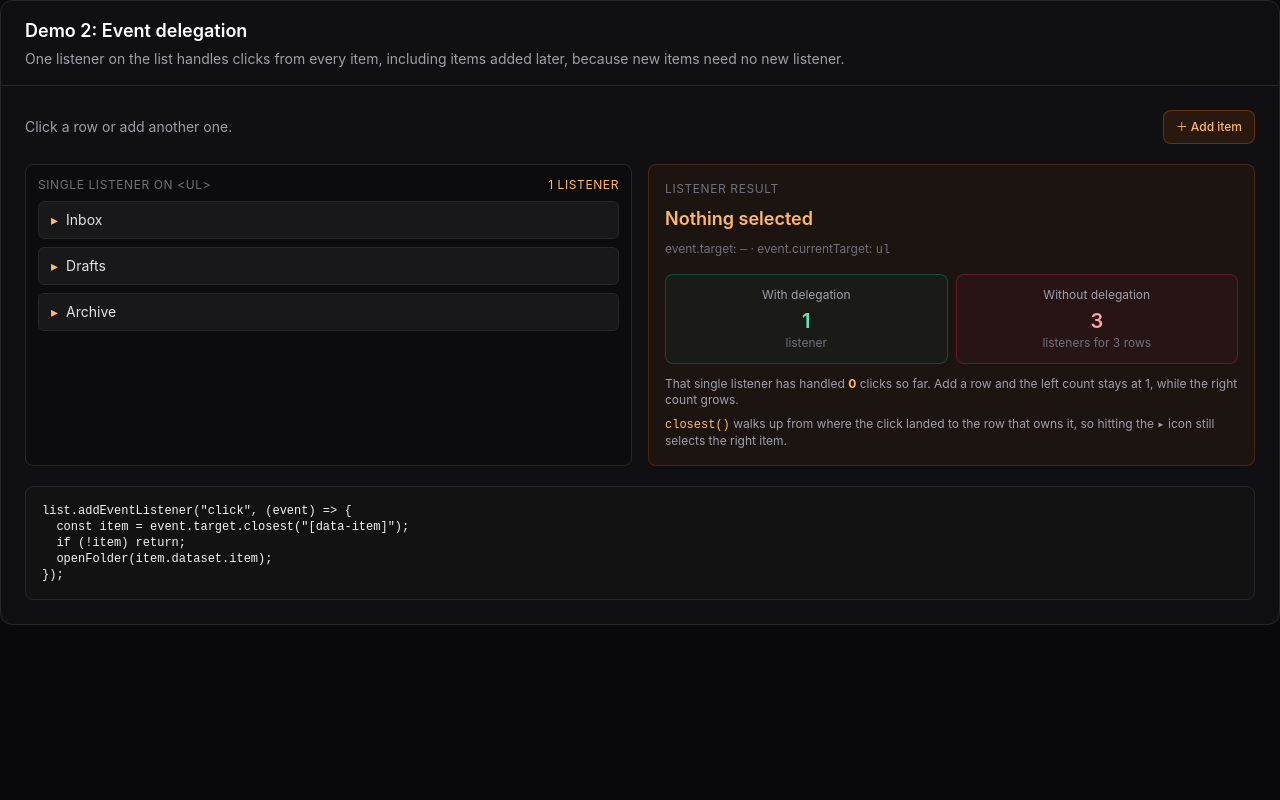
EventDelegationDemo › keeps one listener while the row count grows
The width and height of the screenshot is (1280, 800).
Click the button "＋ Add item" at [1209, 127], box [1163, 110, 1255, 144]
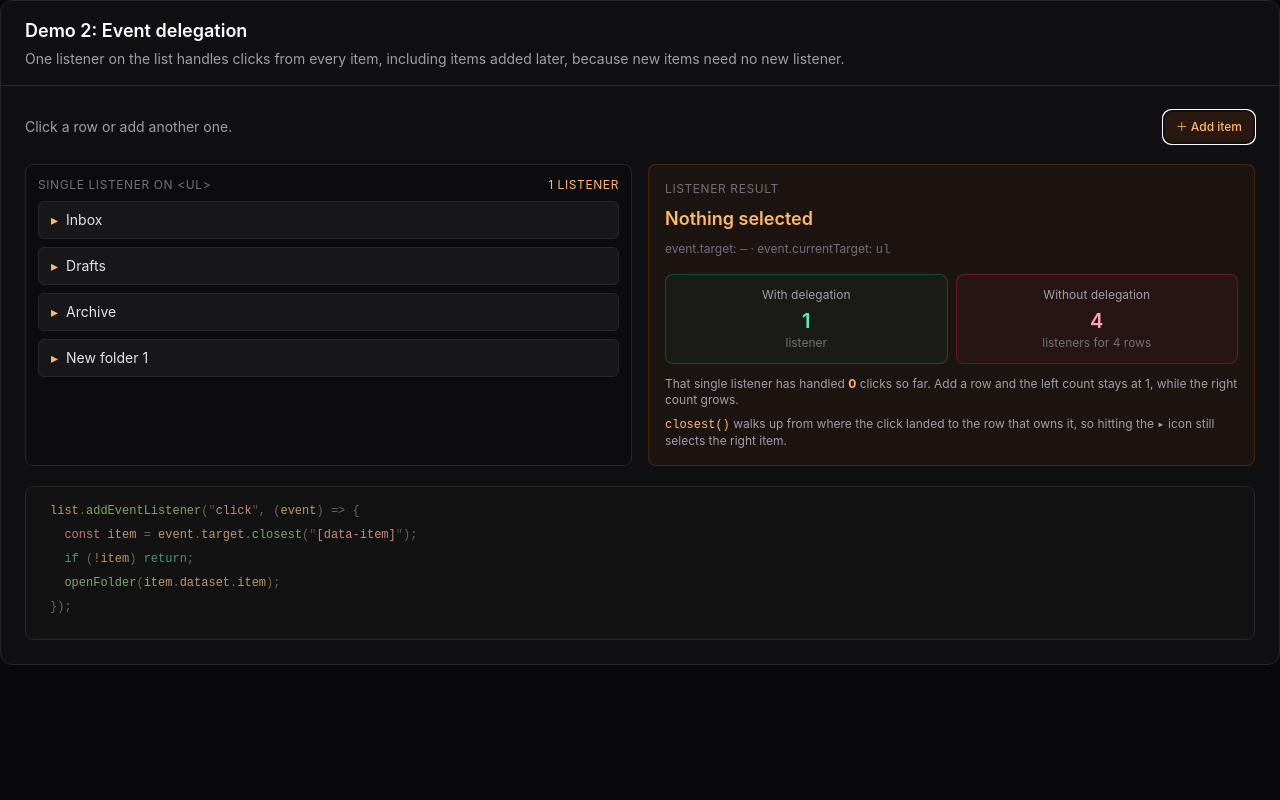
Click the button "＋ Add item" at [1209, 127], box [1163, 110, 1255, 144]
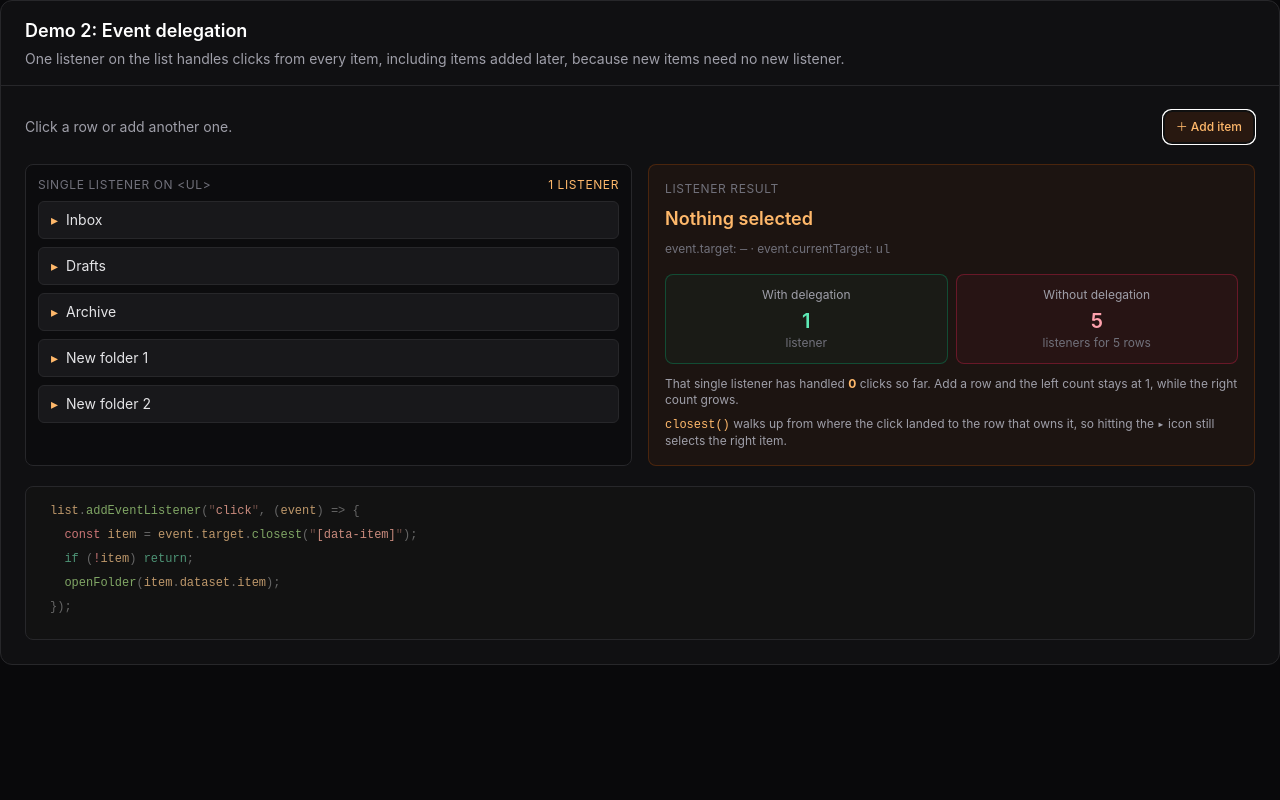
expect the text "1 listener" is shown: met, box [548, 177, 619, 193]
expect the text "5" is shown: met, box [1091, 309, 1103, 333]
expect the text "listeners for 5 rows" is shown: met, box [1042, 335, 1151, 350]
